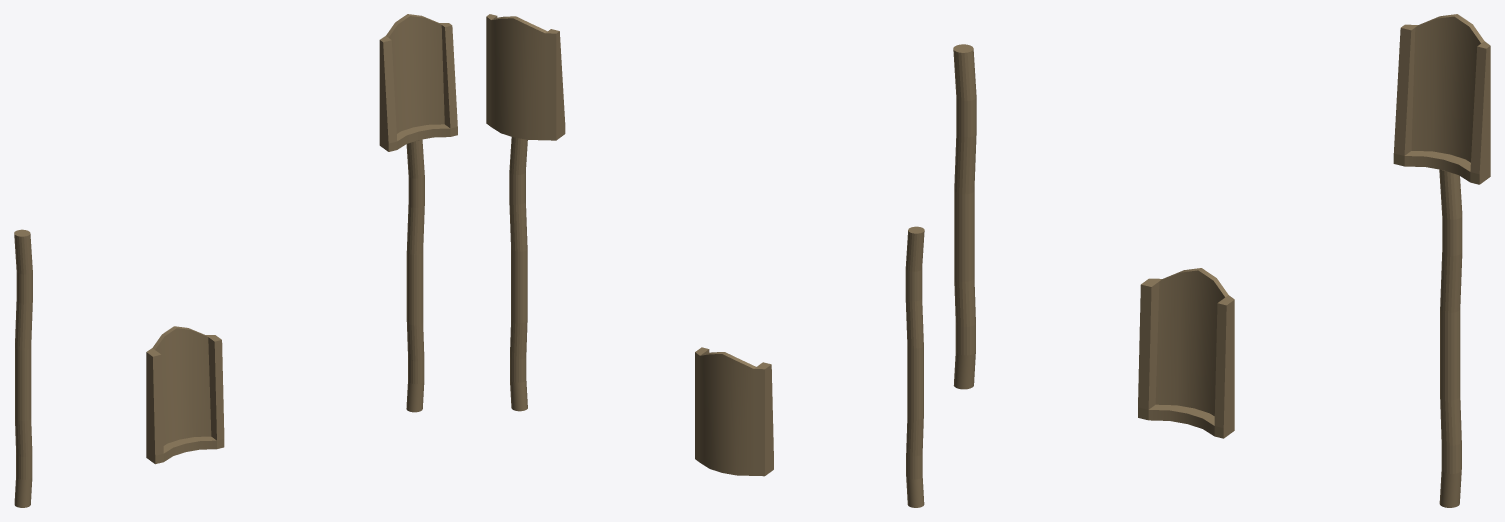
File: Shovel.fbx
3 renders of one model, left to right at view 1: azimuth 30°, elevation 25°; view 2: azimuth 150°, elevation 25°; view 3: azimuth 330°, elevation 25°, orthographic. The views are drawn at different scales.
Parts seen in each view (by area): view 1: WholeShovel, ShovelHead, ShovelShaft; view 2: WholeShovel, ShovelHead, ShovelShaft; view 3: WholeShovel, ShovelHead, ShovelShaft.
Part boxes in pixels (x1,y1,x2,y2): WholeShovel: [379, 14, 457, 412]; ShovelHead: [146, 326, 224, 464]; ShovelShaft: [14, 229, 32, 507]; WholeShovel: [486, 14, 565, 411]; ShovelHead: [695, 347, 773, 476]; ShovelShaft: [905, 226, 924, 507]; WholeShovel: [1393, 14, 1490, 507]; ShovelHead: [1138, 268, 1234, 438]; ShovelShaft: [953, 44, 976, 389].
Size of the model in its own units: 8.14 by 7.01 by 0.9666.
